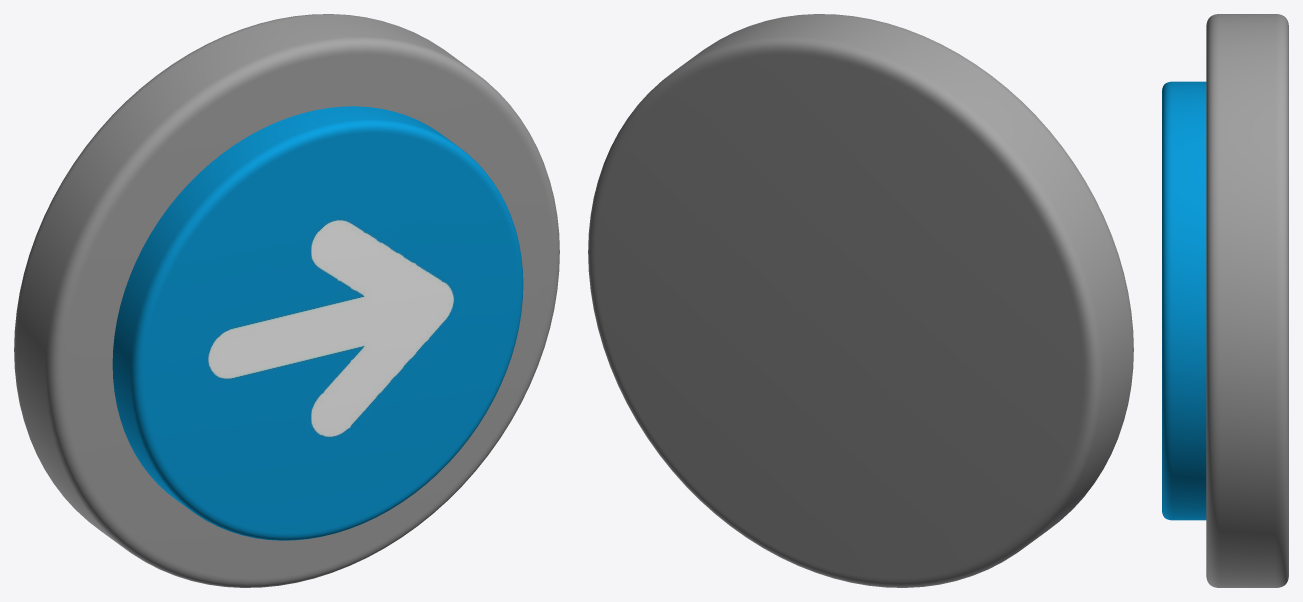
Rendered from arrow_btn.gltf.
3 renders of one model, left to right at view 1: azimuth 30°, elevation 25°; view 2: azimuth 150°, elevation 25°; view 3: azimuth 270°, elevation 25°, orthographic. The views are drawn at different scales.
Parts seen in each view (by area): view 1: switch_arrow_1, switch_arrow; view 2: switch_arrow; view 3: switch_arrow, switch_arrow_1.
Part boxes in pixels (x1=…): switch_arrow_1: x1=112, y1=106, x2=523, y2=540; switch_arrow: x1=14, y1=14, x2=559, y2=587; switch_arrow: x1=588, y1=14, x2=1133, y2=587; switch_arrow: x1=1206, y1=14, x2=1288, y2=587; switch_arrow_1: x1=1162, y1=81, x2=1206, y2=520.
Bounding box in the file's own units: 0.3223 × 0.3221 × 0.0713.
Materials: 2 (1 with a texture image).
